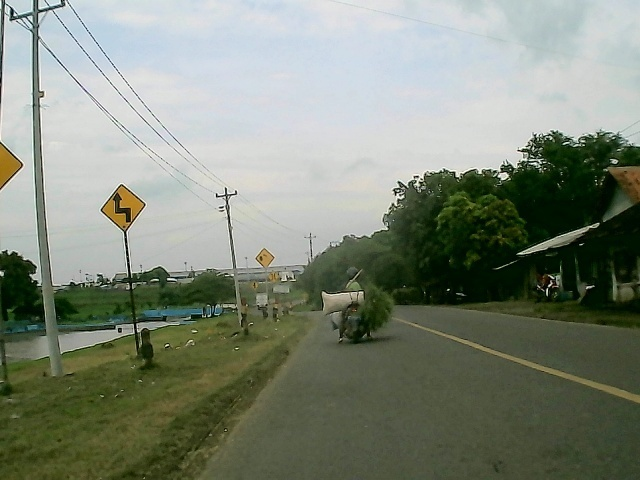Peringatan tepi air: (254, 247, 276, 271)
Tikungan garda pertama kiri: (99, 181, 148, 234)
